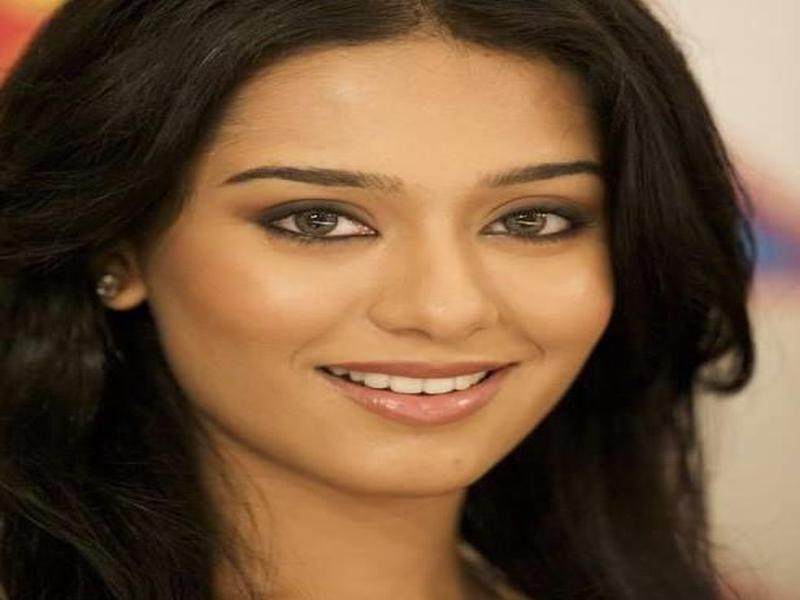without_mask: (139, 97, 615, 492)
